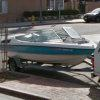Boat: (2, 23, 95, 76)
